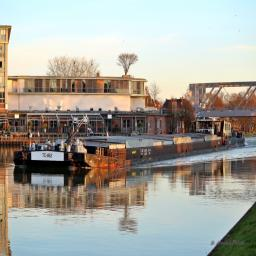tugboat: (187, 117, 248, 155)
